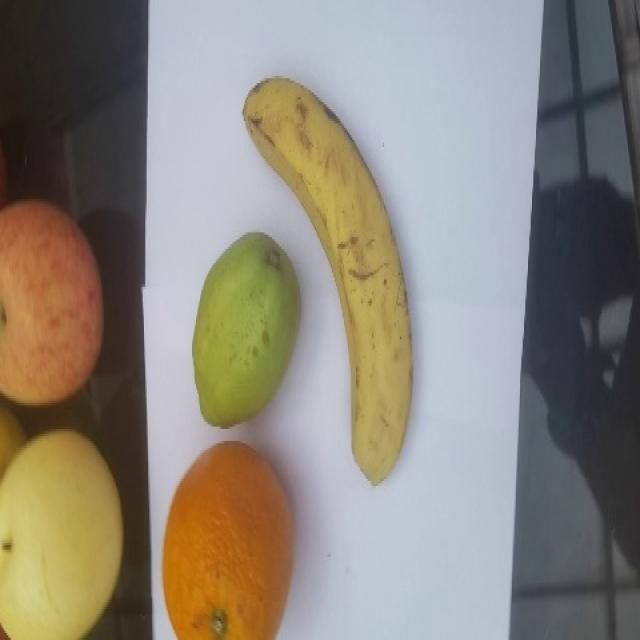Apple: (0, 197, 104, 407)
Banana: (241, 75, 413, 485)
Orange: (161, 440, 295, 639)
